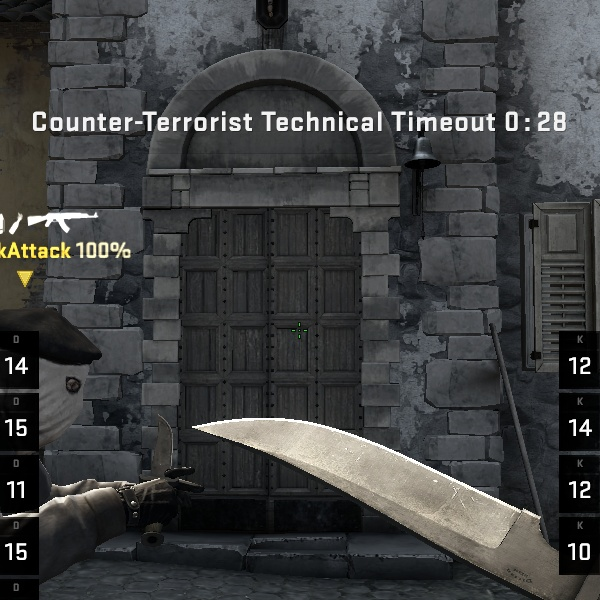t_body: (0, 294, 142, 600)
